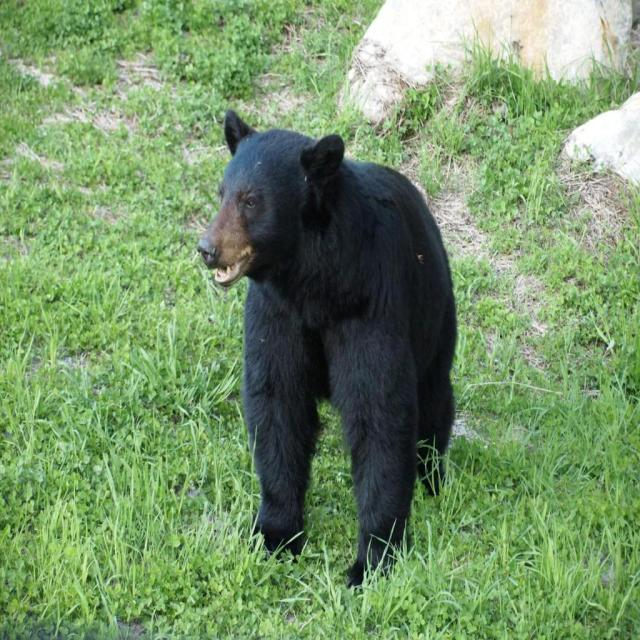Buffalo: (196, 110, 457, 590)
